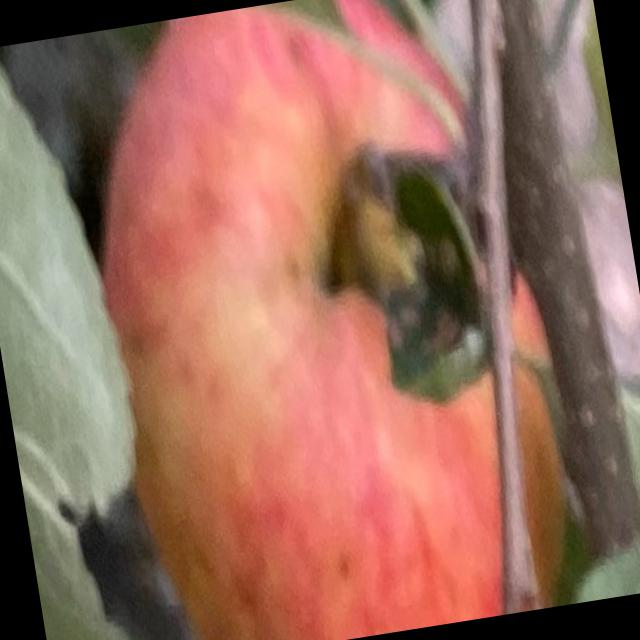Apples: (67, 0, 593, 639)
